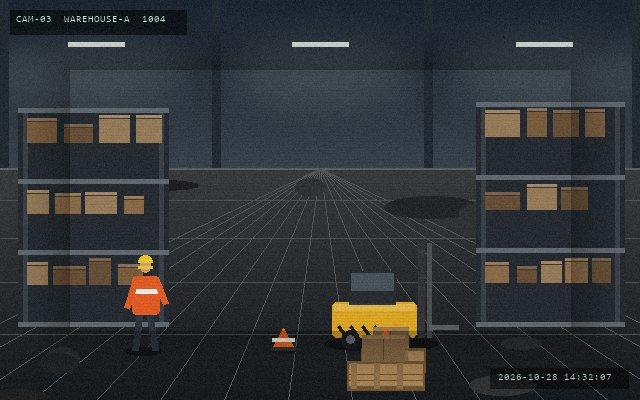cone: (270, 326, 296, 353), (373, 327, 397, 352)
forklift: (328, 241, 460, 351)
pallet: (345, 359, 426, 392), (359, 346, 427, 374)
person: (124, 253, 167, 354)
shelf: (476, 102, 624, 322), (18, 108, 168, 322)
